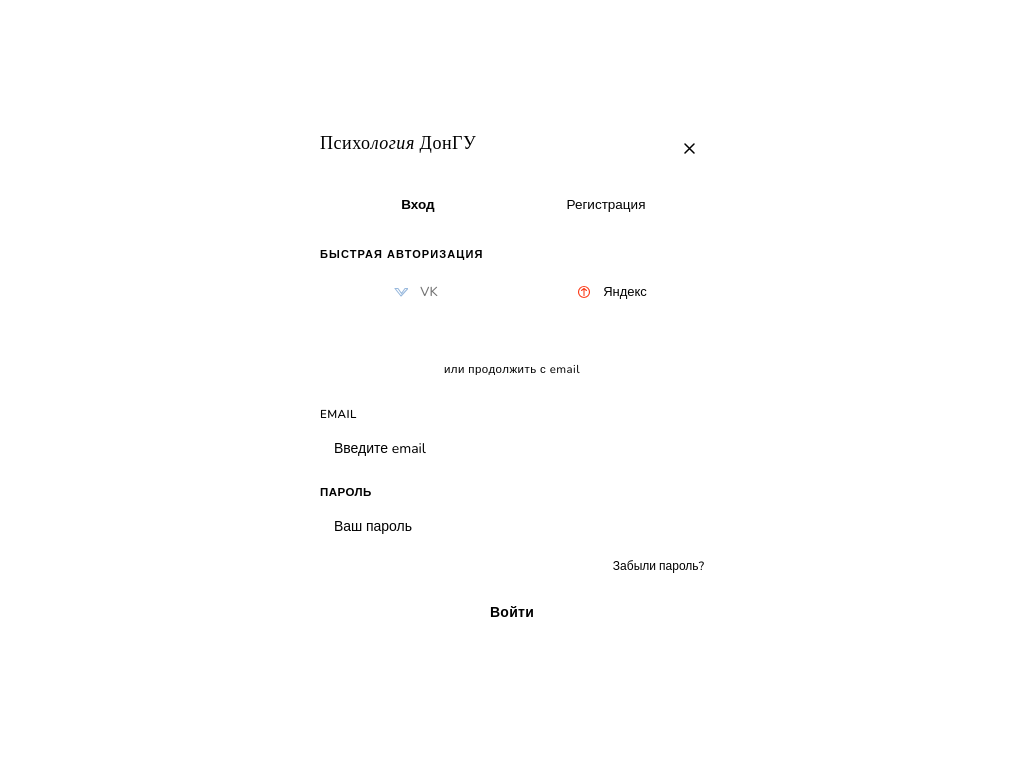
Test case: юридические ссылки открываются в новой вкладке › обычная регистрация: форма
Expected: the button with aria-label "Войти через Яндекс" is enabled, [516,272,704,312]
Step 1. Click the tab "Регистрация" → [606, 204], box [512,186,700,222]
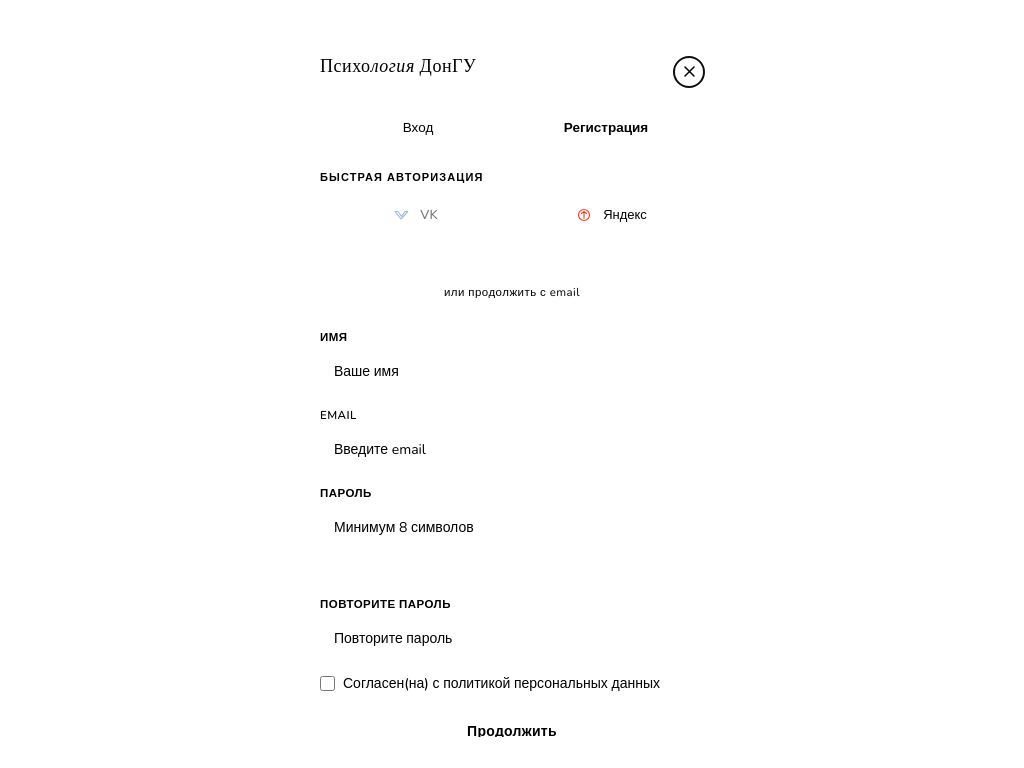
Now the links read "политикой персональных данных", in this order, box [443,674,660,693]
